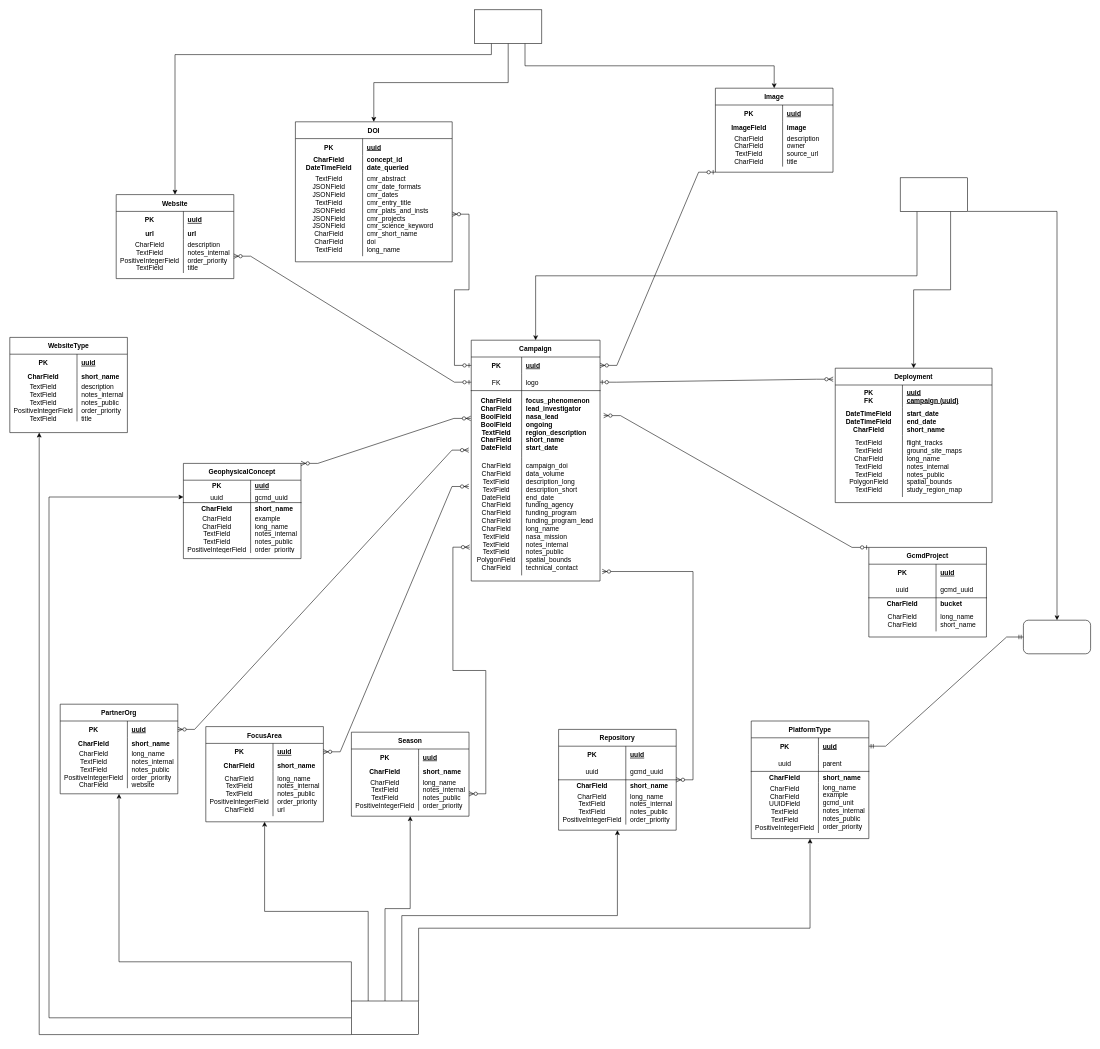
This 1100x1049 diagram has some shape labels left out. Here are the shapes that lost their labels. From the top down, the centre of each, then its label:
At (508,26): "BaseModel".
At (933,194): "DataModels".
At (1057,637): "Platform".
At (385,1017): "LimitedInfoPriority".
